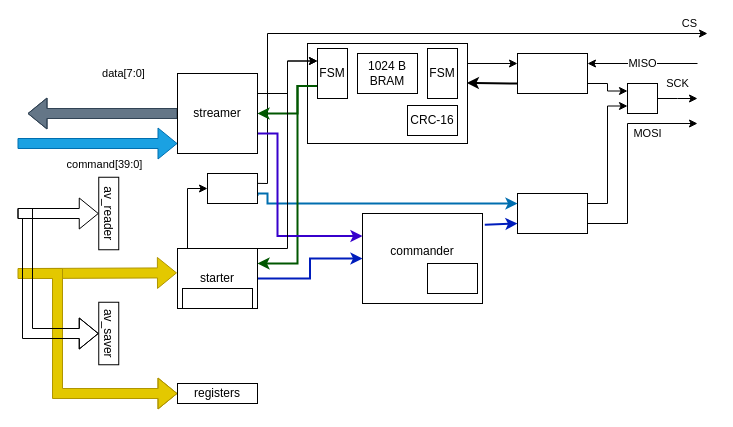
The diagram is 733 pixels wide and 427 high, and some of its shapes have lost their labels. Each missing label, with the centre of its shape:
CRC-7: point (452, 278)
initizer: point (232, 188)
irq_sleeper: point (217, 298)
read: point (552, 73)
send: point (552, 213)
